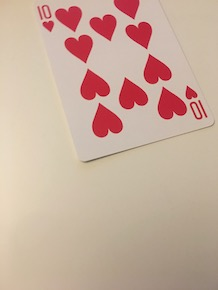TenOfHearts: (30, 1, 218, 163)
